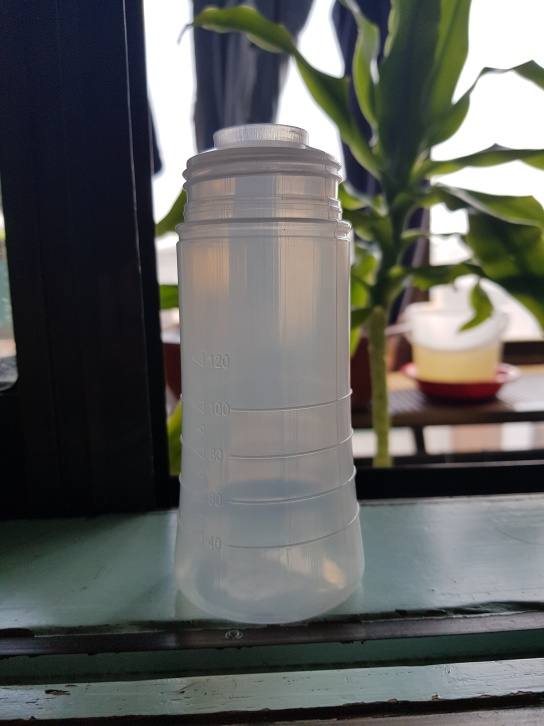Plastic: (168, 117, 372, 627)
